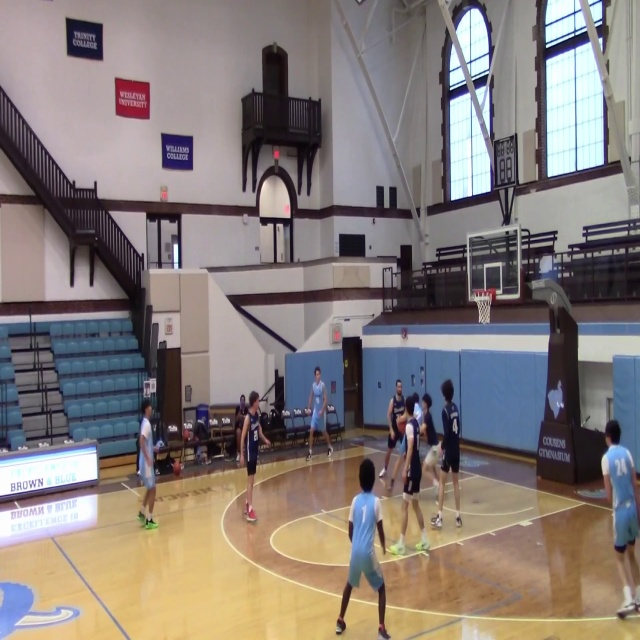Basketball: (396, 415, 407, 433), (172, 462, 181, 475)
